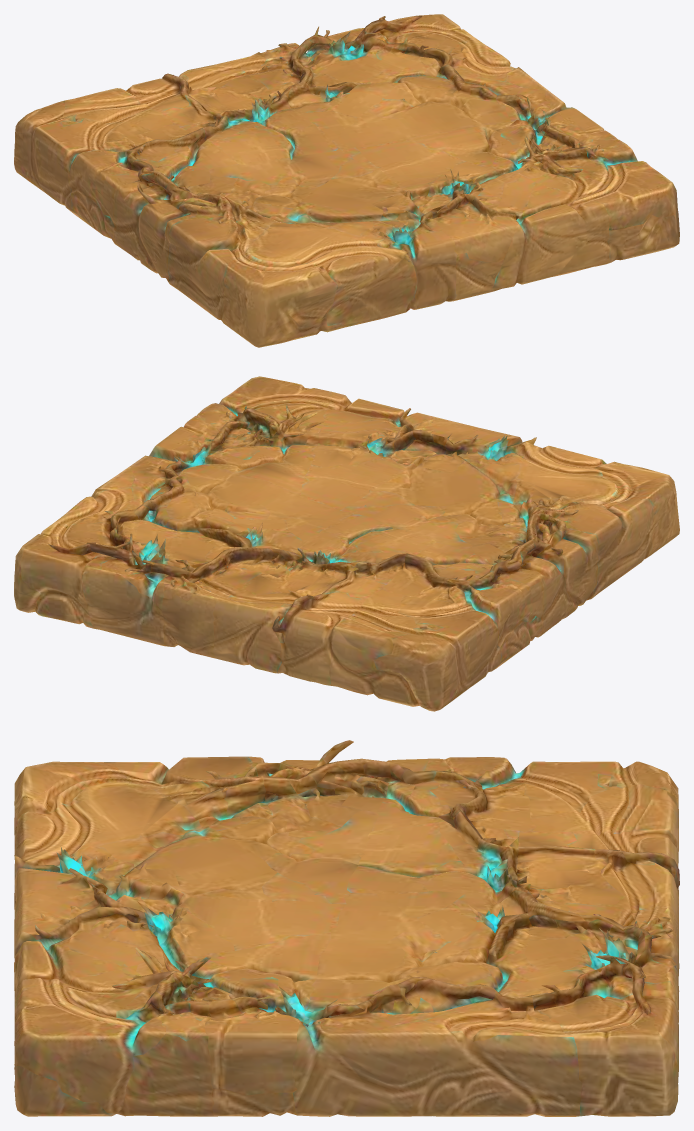
Rendered from dry-vine-ground.glb.
3 renders of one model, top to bottom at view 1: azimuth 30°, elevation 25°; view 2: azimuth 150°, elevation 25°; view 3: azimuth 270°, elevation 25°, orthographic. The views are drawn at different scales.
Bounding box in the file's own units: 1.9 × 0.3506 × 1.9.
1 material, 1 textured.
